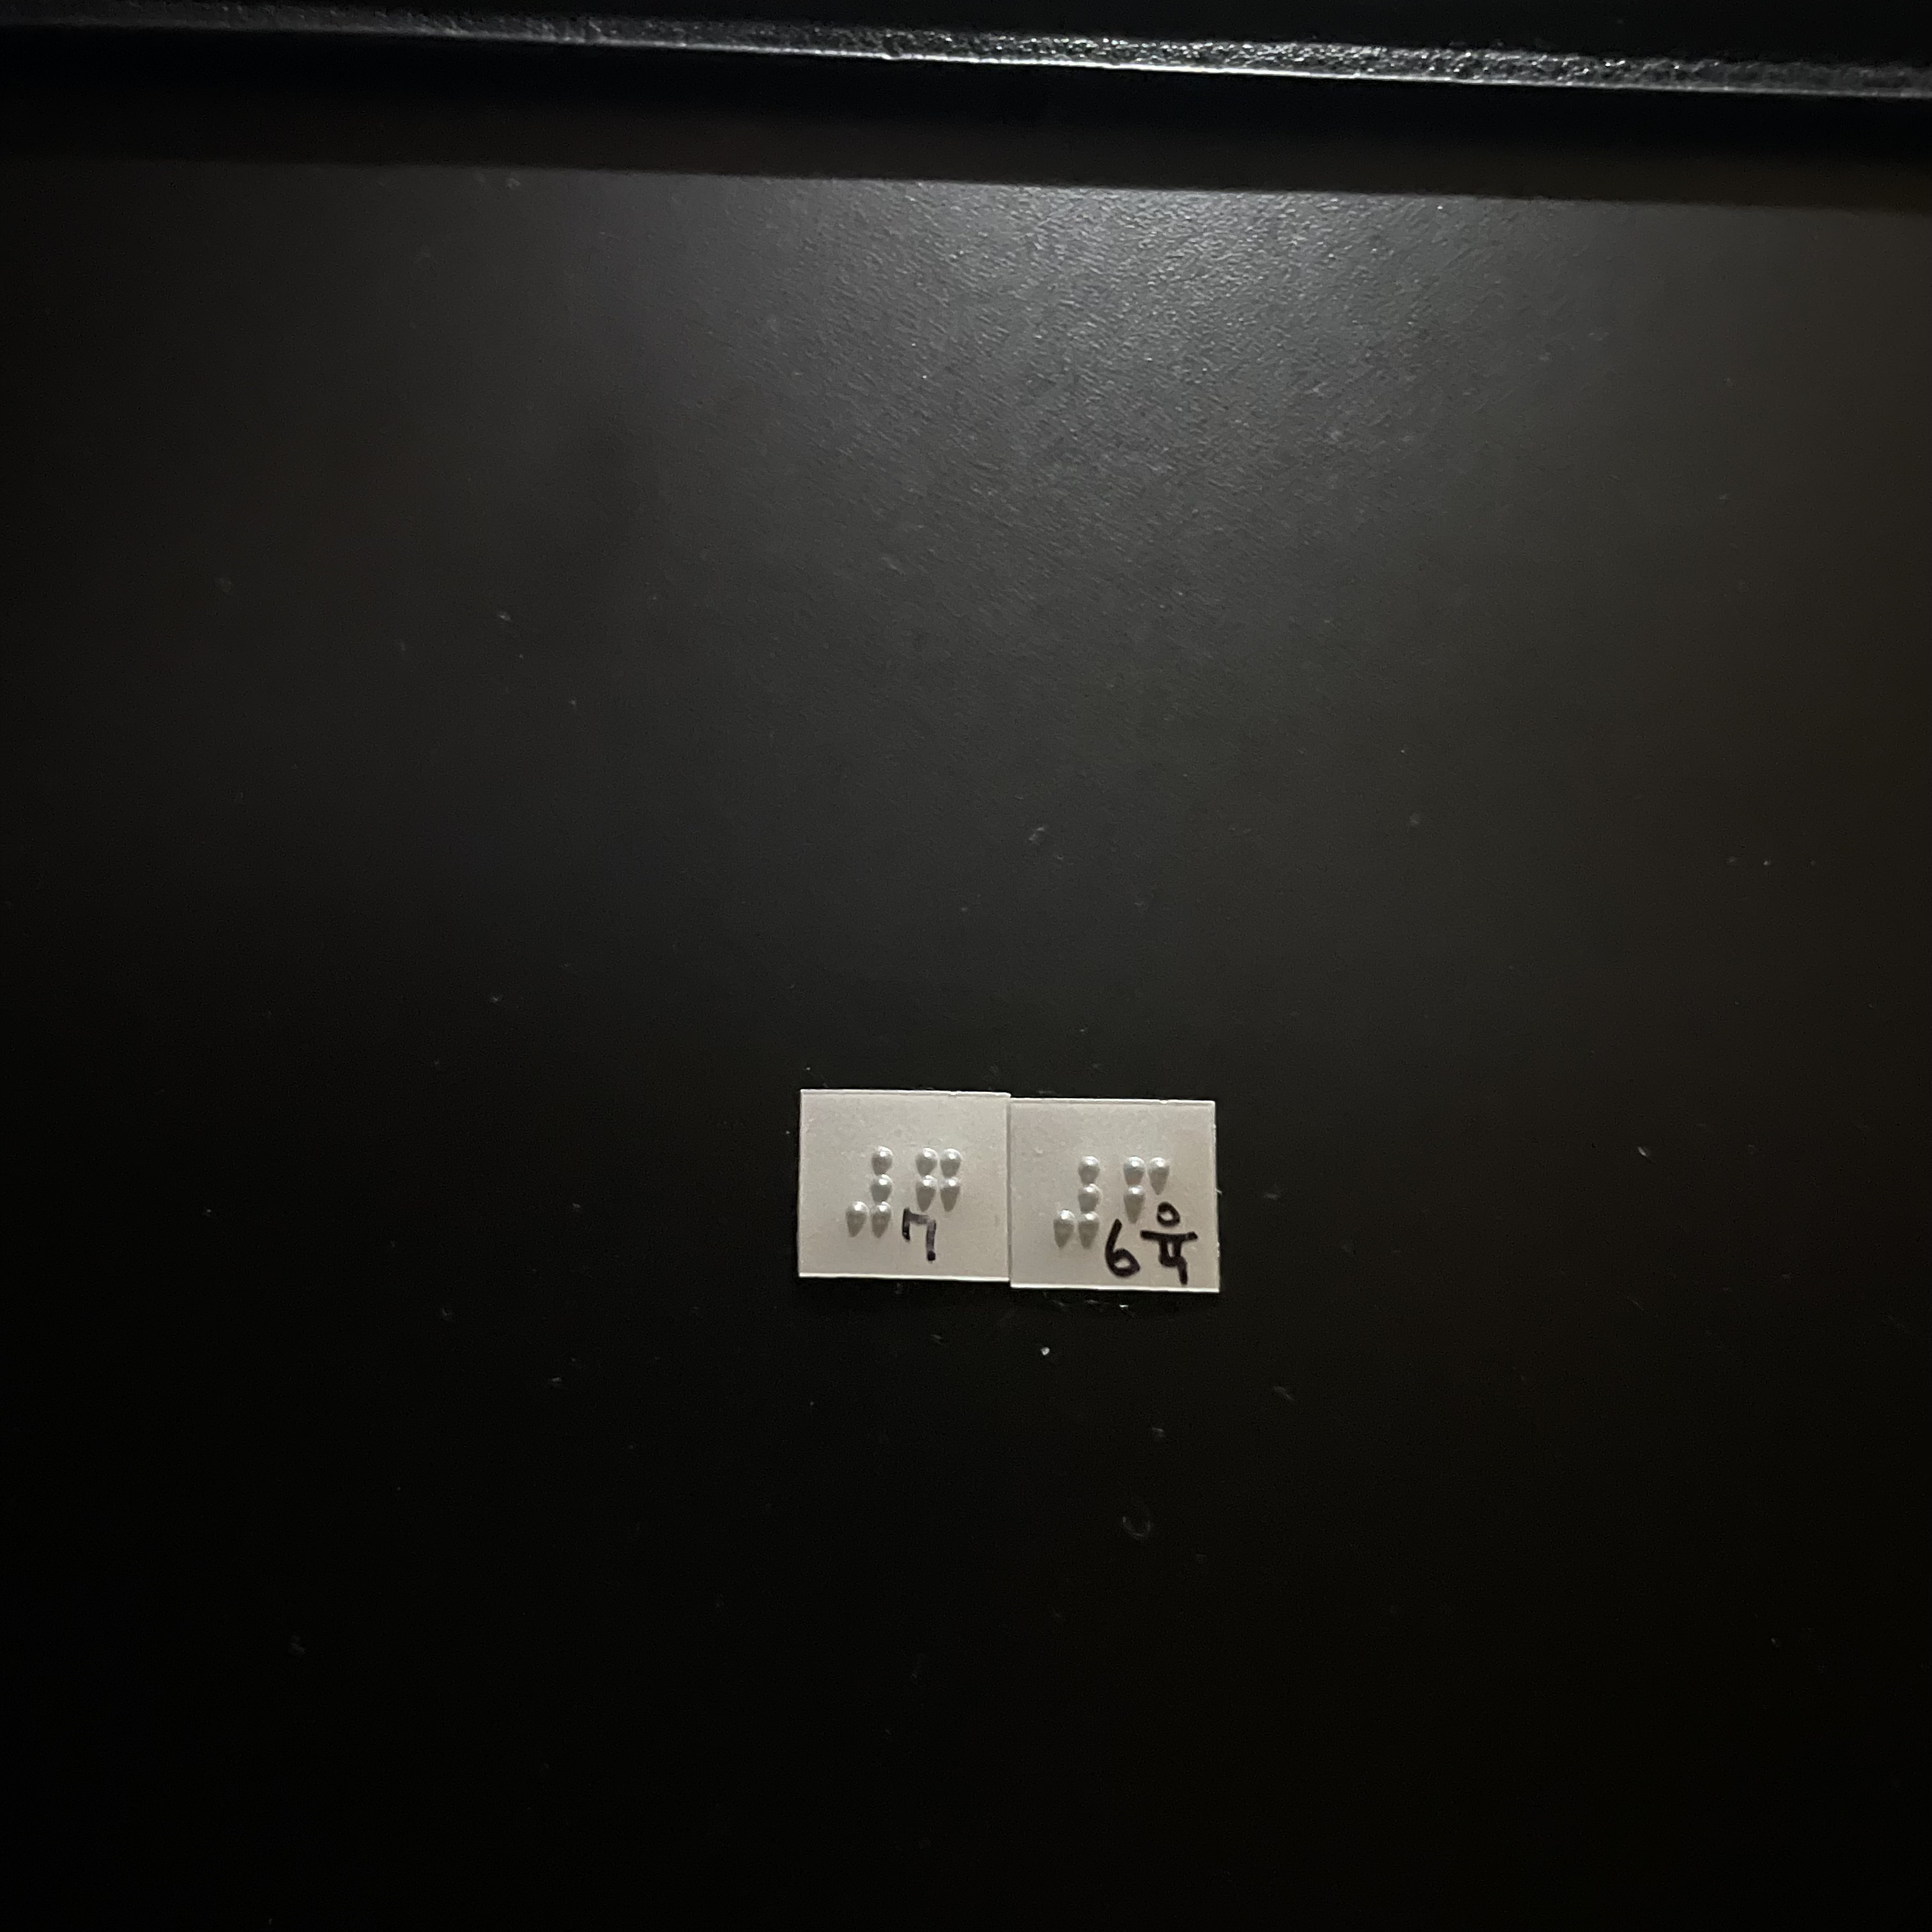#: (1047, 1156, 1111, 1260), (839, 1138, 901, 1236)
f: (1115, 1154, 1179, 1266)
g: (900, 1135, 967, 1238)
